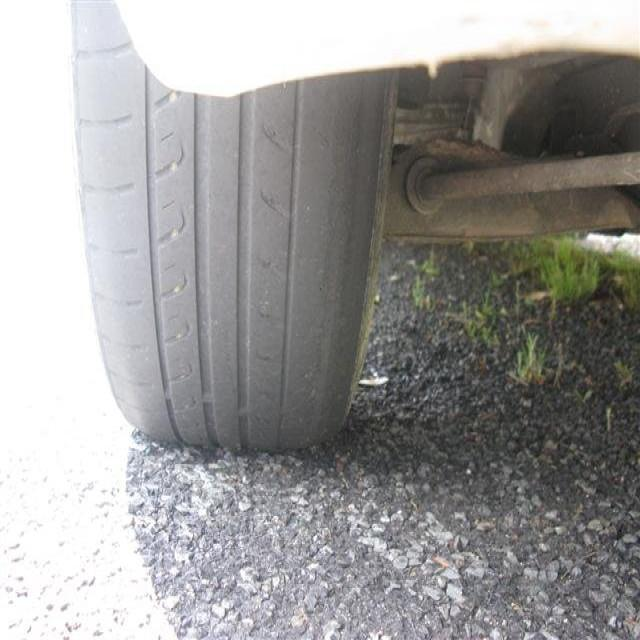Flat spots: (105, 89, 334, 451)
